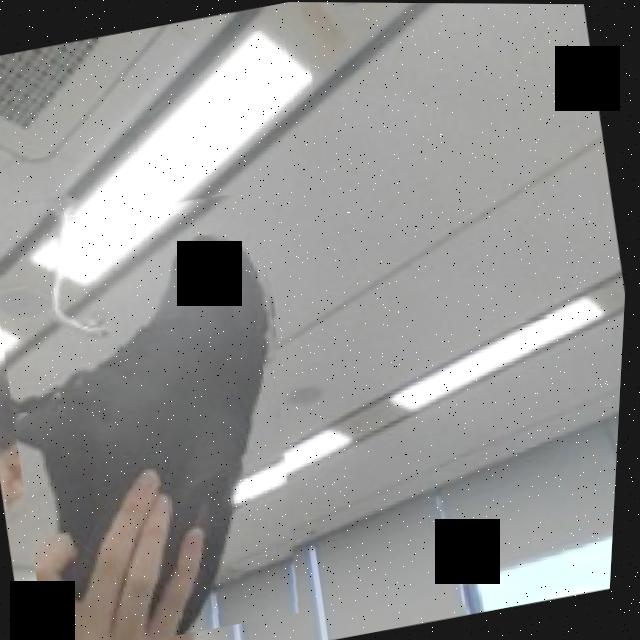shoe: (0, 176, 345, 640)
